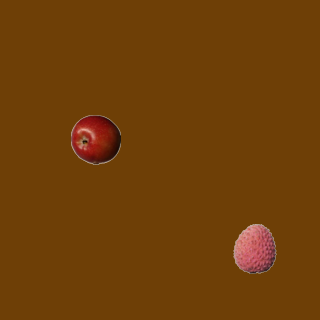Apple Braeburn: (70, 114, 120, 164)
Lychee: (229, 223, 279, 273)
